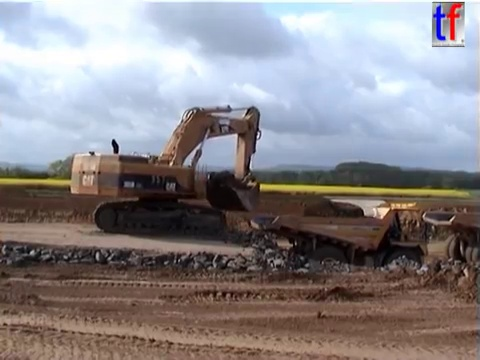excavator: (68, 102, 264, 237)
truck: (247, 199, 439, 284), (419, 208, 480, 272)
